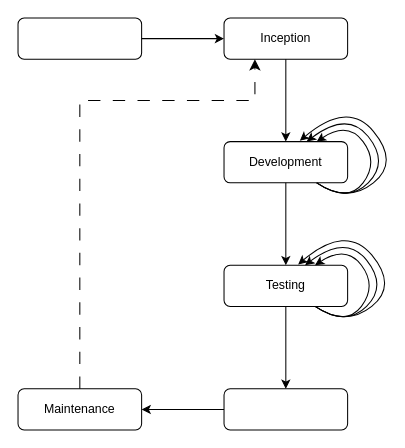
This 405x448 diagram has some shape labels left out. The centre of each missing label's shape, as x and y in pixels:
Concept: the point at 79,38
Deployment: the point at 285,409
